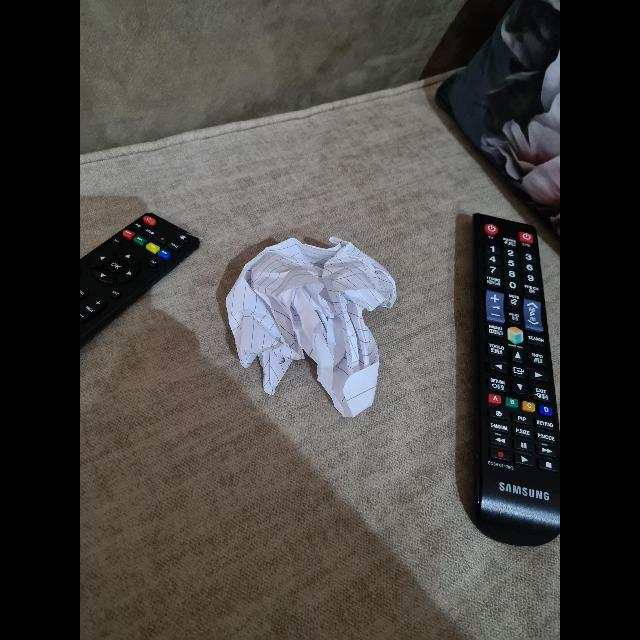scrap_paper: (224, 230, 406, 418)
